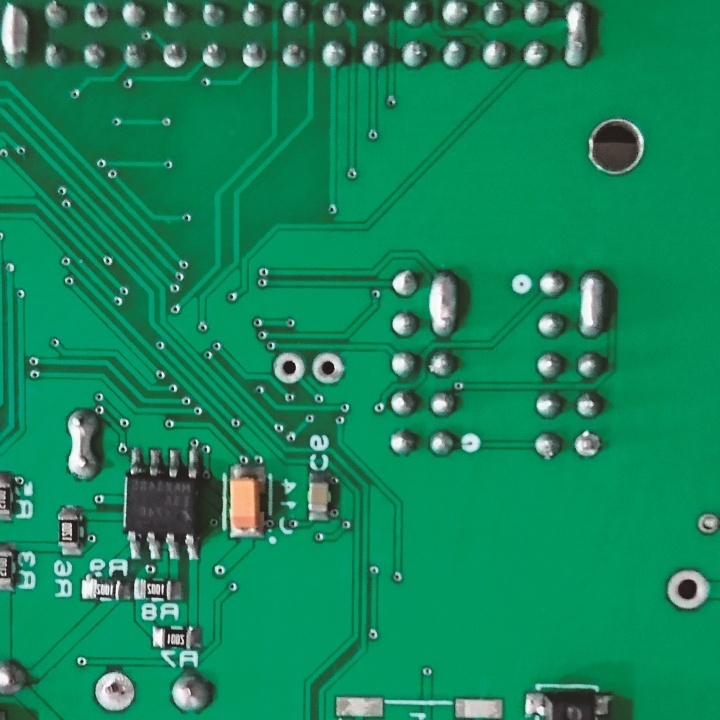F: (661, 566, 714, 613), (93, 673, 136, 714), (310, 351, 347, 389), (270, 351, 304, 385), (158, 38, 190, 72), (240, 37, 270, 73), (573, 429, 604, 463), (79, 1, 112, 29), (695, 510, 720, 538)
P: (427, 265, 465, 341), (62, 404, 100, 480), (575, 266, 610, 342), (1, 1, 35, 78), (563, 1, 598, 70)
